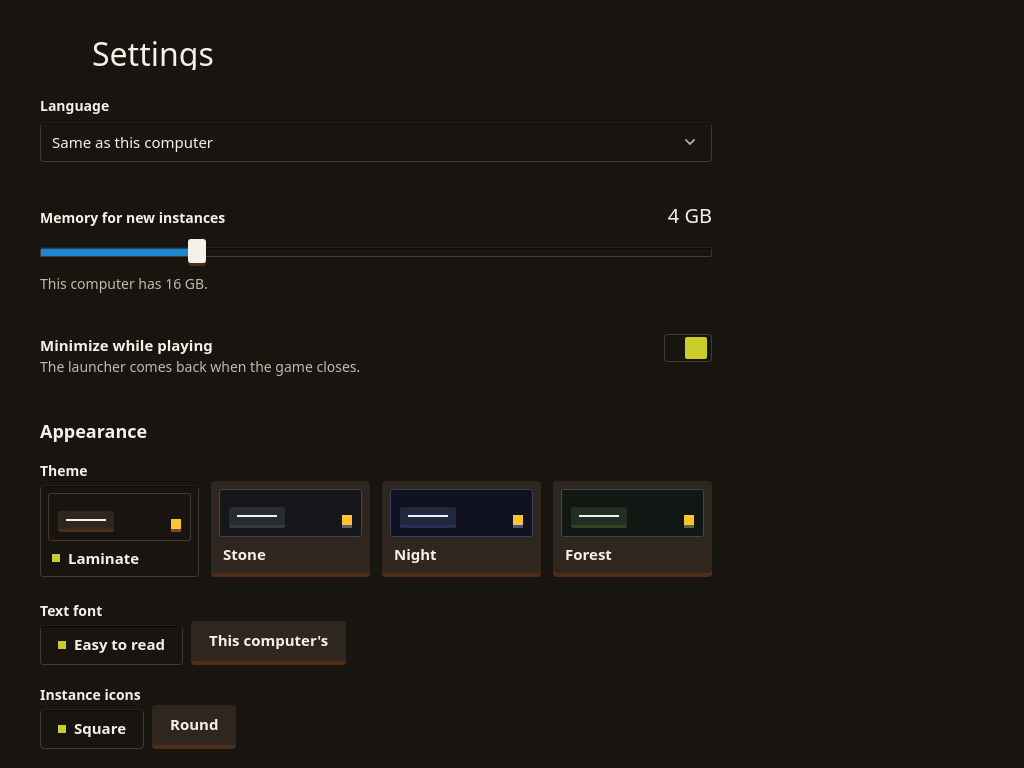
Scenario: says when a save has gone through
Click the switch named "Minimize while playing": (688, 348) [664, 334, 712, 362]
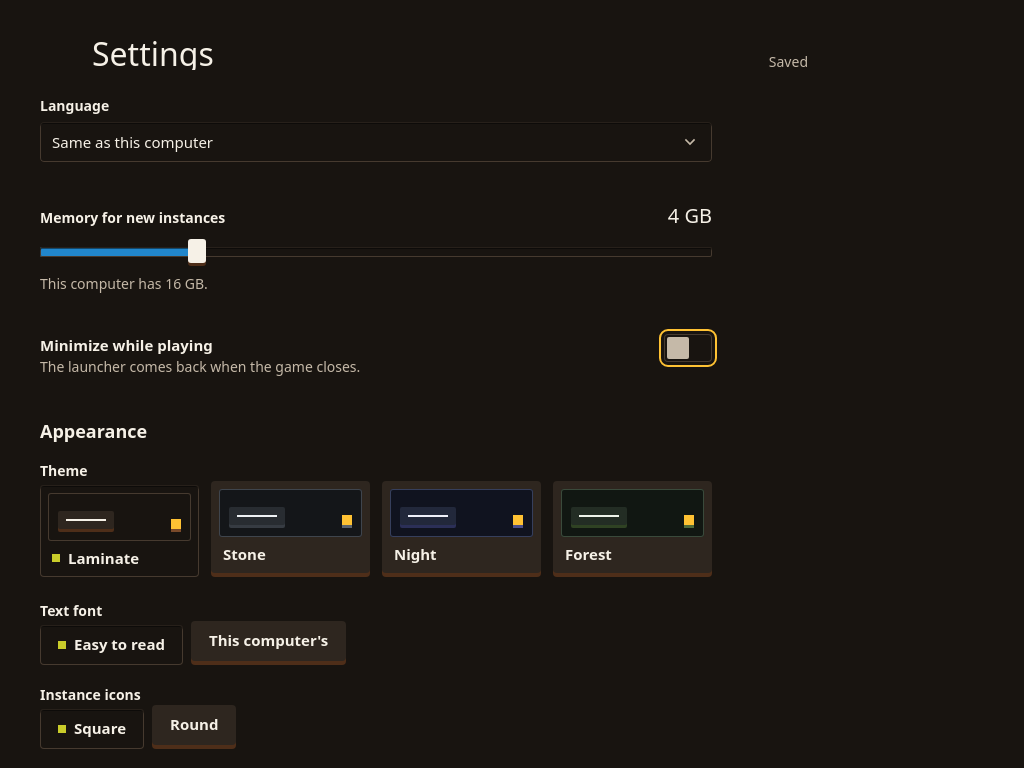
expect the message reads "Saved": met, box [769, 52, 808, 71]
